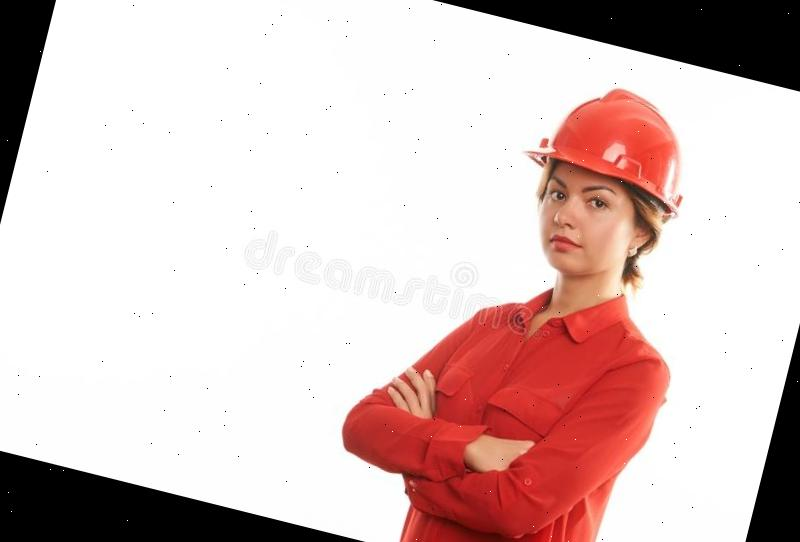helmet: (518, 65, 725, 220)
no_wear: (318, 254, 686, 542)
